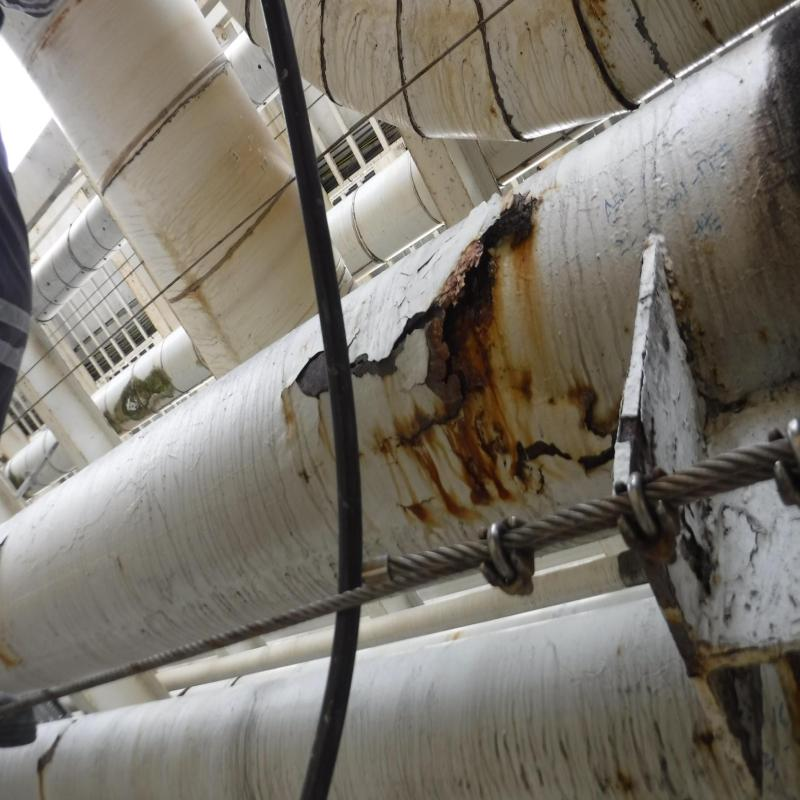corrosion: (362, 238, 585, 508)
